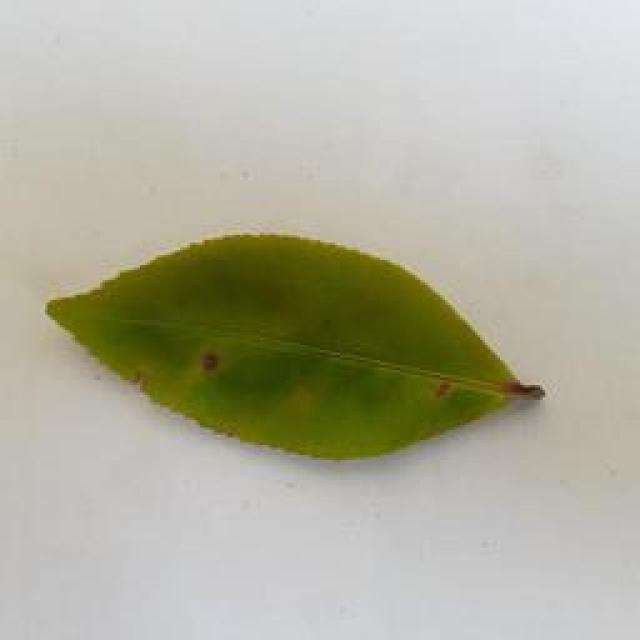Helopeltis: (53, 224, 552, 455)
